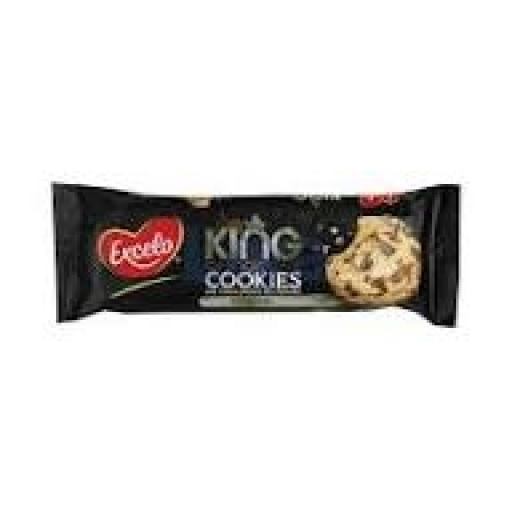king-cooking: (49, 149, 495, 360)
